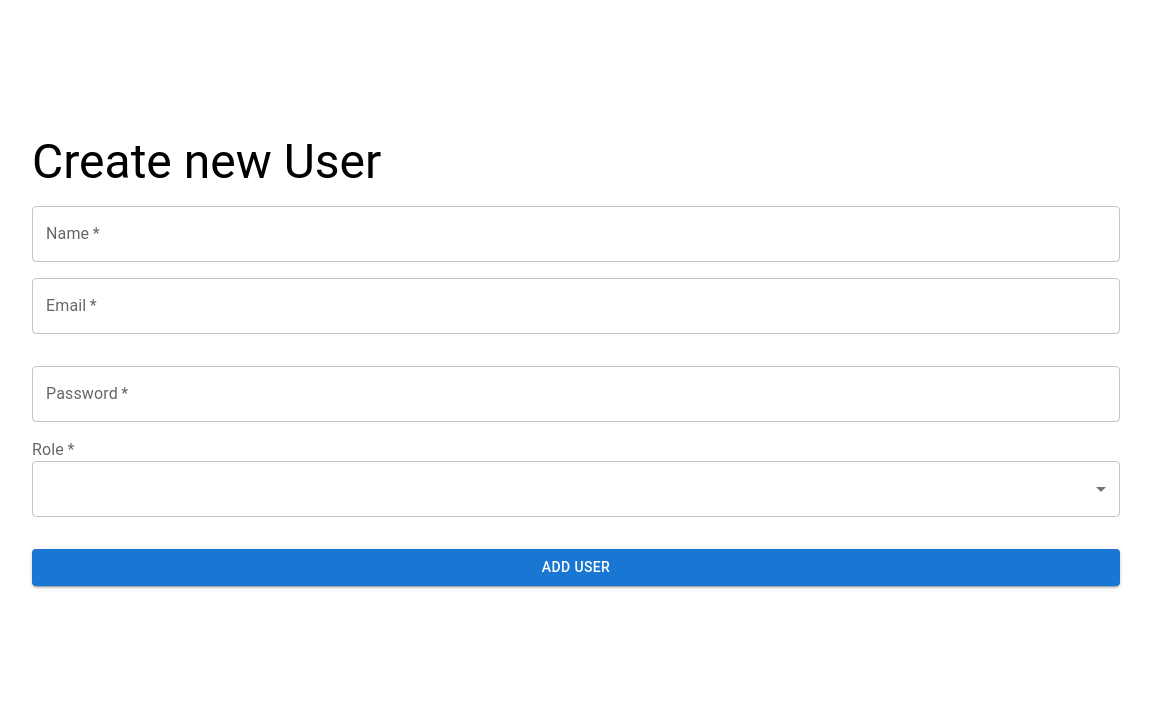
AddUserFormMittel › closes error alert when close icon is clicked
Type "john.doe@example.com" into the field labelled "Email *".
click(576, 306); type("john.doe@example.com")  # box [32,278,1120,334]
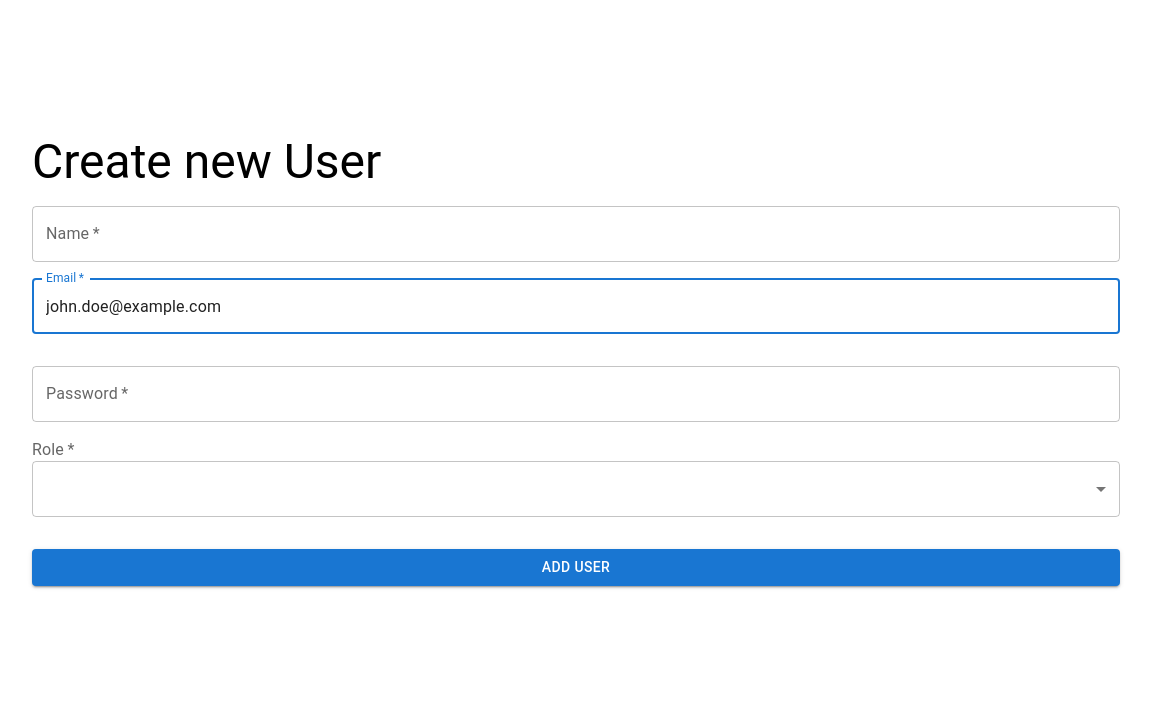
Submit the form from the button "Add User", box [32,549,1120,586]
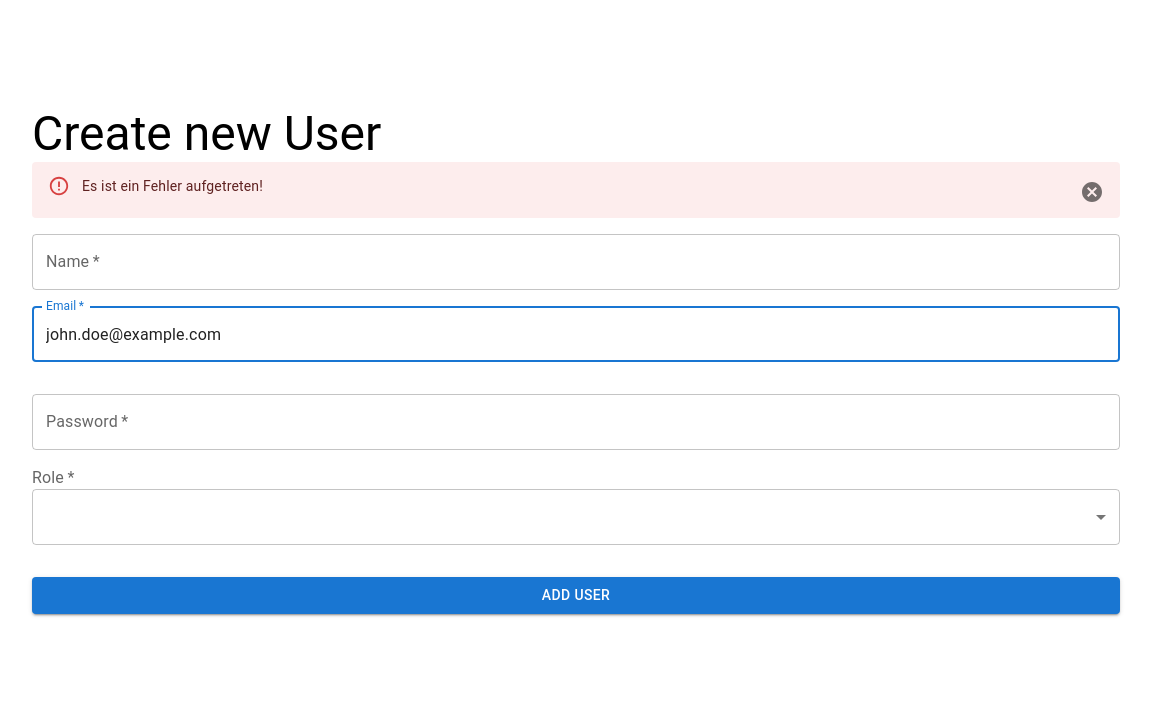
Expected: the text "Es ist ein Fehler aufgetreten!" is shown, [82,178,263,194]
Click the button named "close-icon".
click(1092, 192)  # box [1072,172,1112,212]
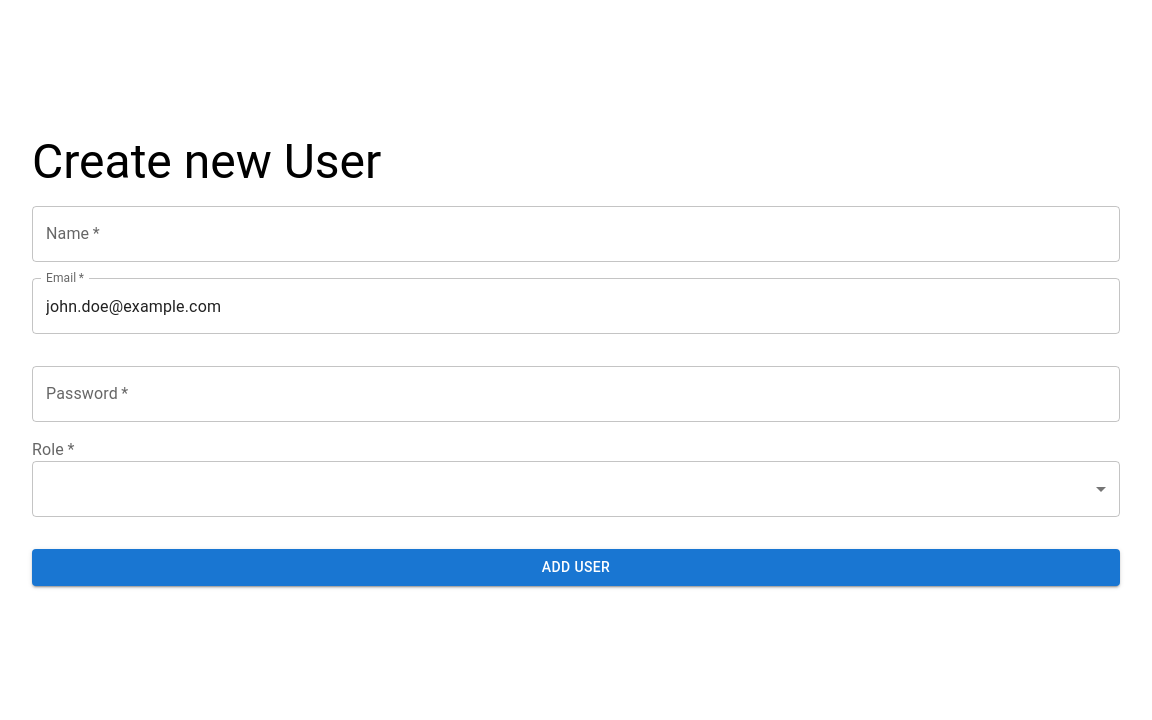
Expected: the text "Es ist ein Fehler aufgetreten" is gone
